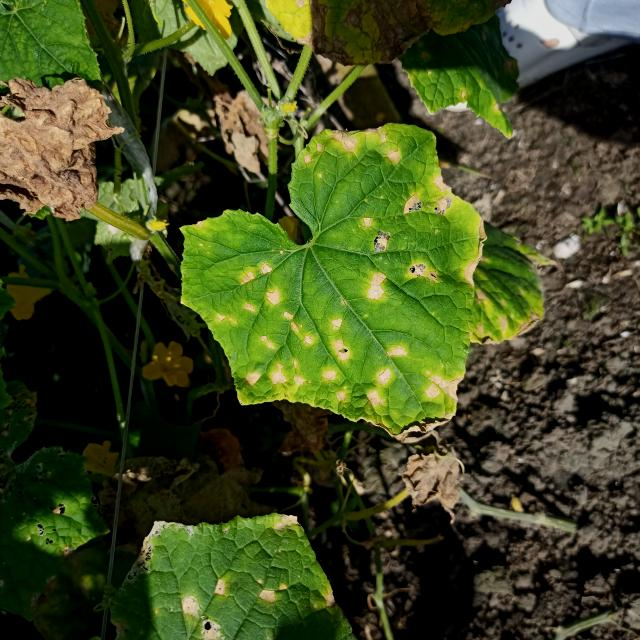disease_cucumber: (218, 123, 486, 424)
